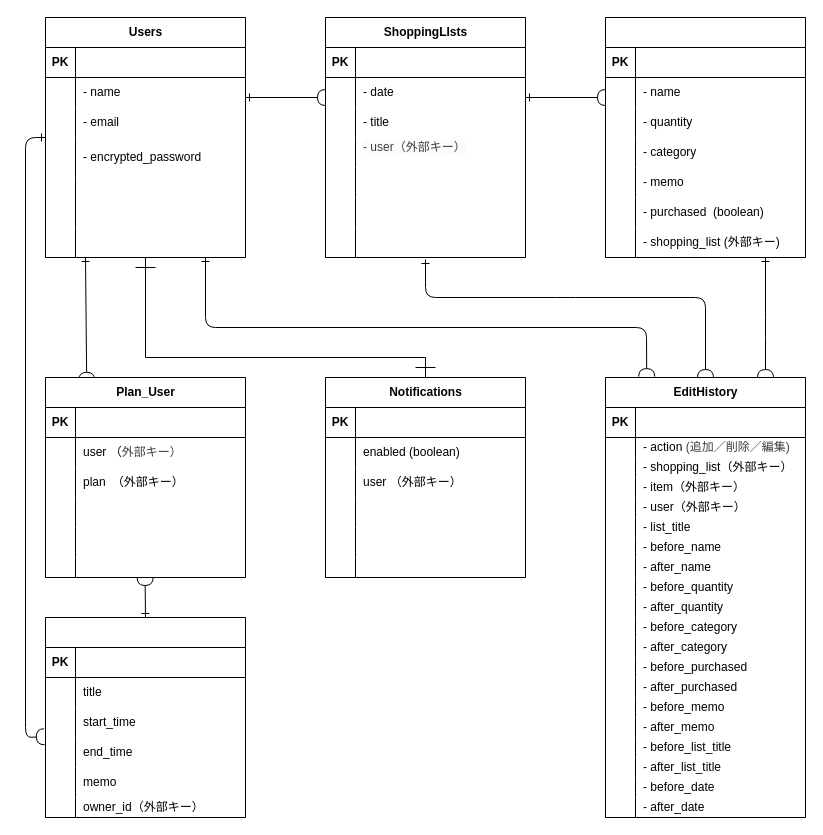
Some shapes in this 823 by 835 pixel diagram are drawn without their labels. Each missing label, with the box of its shape:
Items: (604, 16, 806, 258)
Plans: (44, 616, 246, 818)
